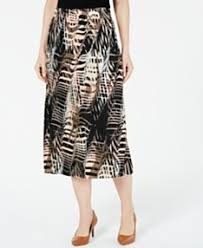C_skirt: (33, 4, 140, 187)
